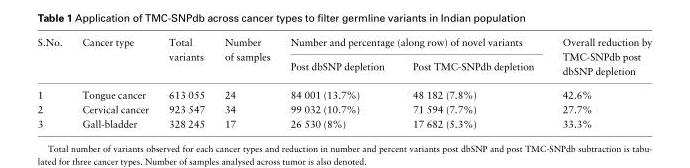table: (36, 37, 651, 129)
table column: (397, 37, 547, 129), (279, 37, 397, 129), (547, 37, 651, 129), (71, 37, 158, 129), (214, 37, 279, 129), (158, 37, 214, 129), (36, 37, 71, 129)
table column header: (36, 37, 651, 82)
table row: (36, 54, 651, 82), (36, 82, 651, 102), (36, 37, 651, 54), (36, 102, 651, 116), (36, 116, 651, 129)
table spanning cell: (547, 37, 651, 82), (279, 37, 547, 54), (71, 37, 158, 82), (214, 37, 279, 82), (158, 37, 214, 82), (36, 37, 71, 82)
